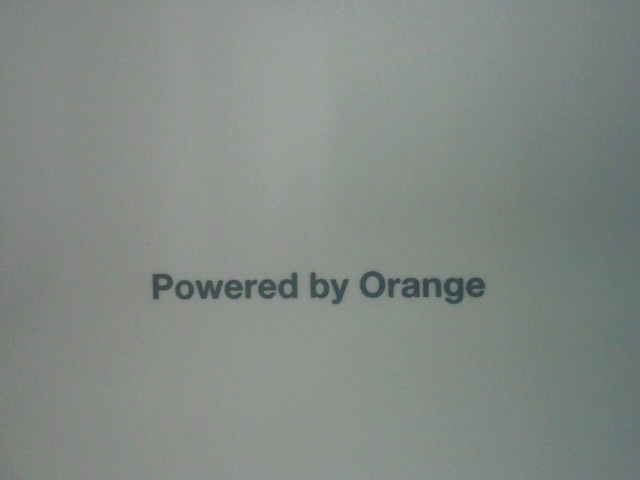AS_PowerByOrange: (139, 261, 495, 313)
